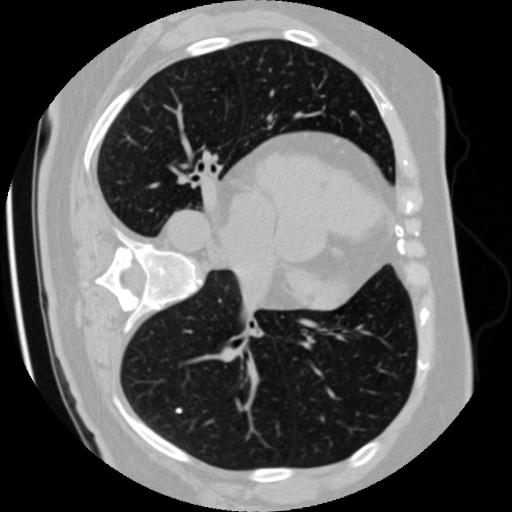nodule: (174, 406, 187, 419)
